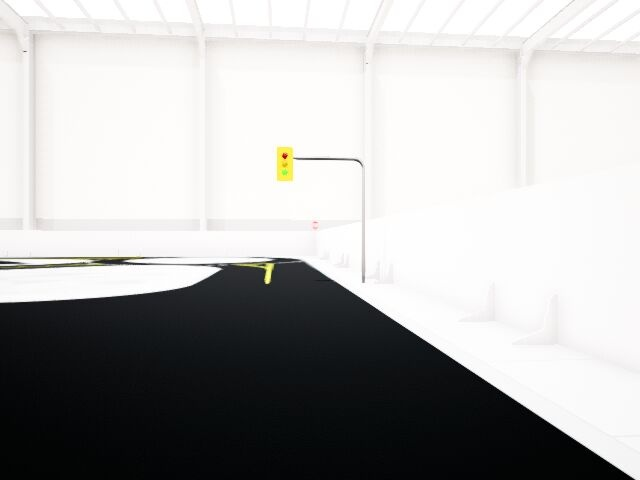green: (276, 146, 292, 182)
